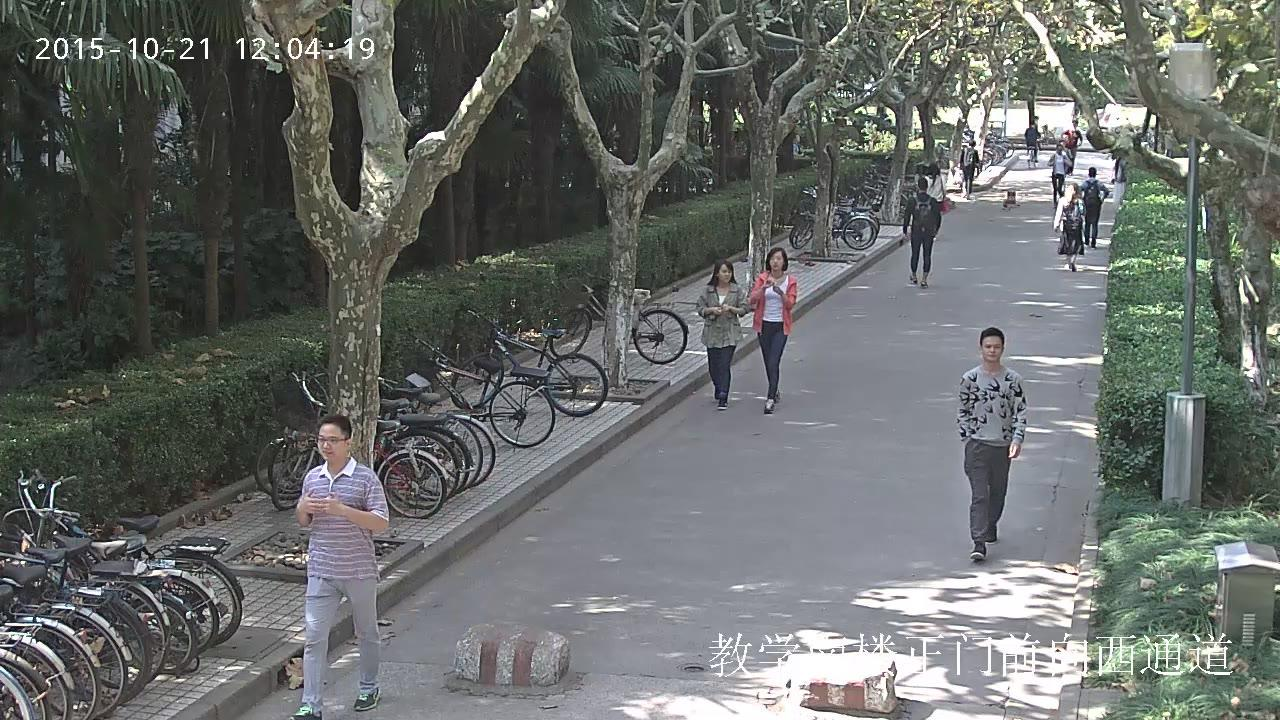person: (290, 413, 389, 720), (957, 326, 1027, 560), (748, 246, 797, 415), (696, 258, 750, 409), (902, 177, 941, 289), (1053, 182, 1086, 272), (924, 162, 955, 242), (1079, 167, 1109, 248), (1047, 143, 1072, 207), (1059, 120, 1083, 175), (959, 140, 980, 200), (1023, 121, 1042, 167), (1023, 121, 1042, 162)
